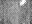person: (21, 1, 26, 6)
